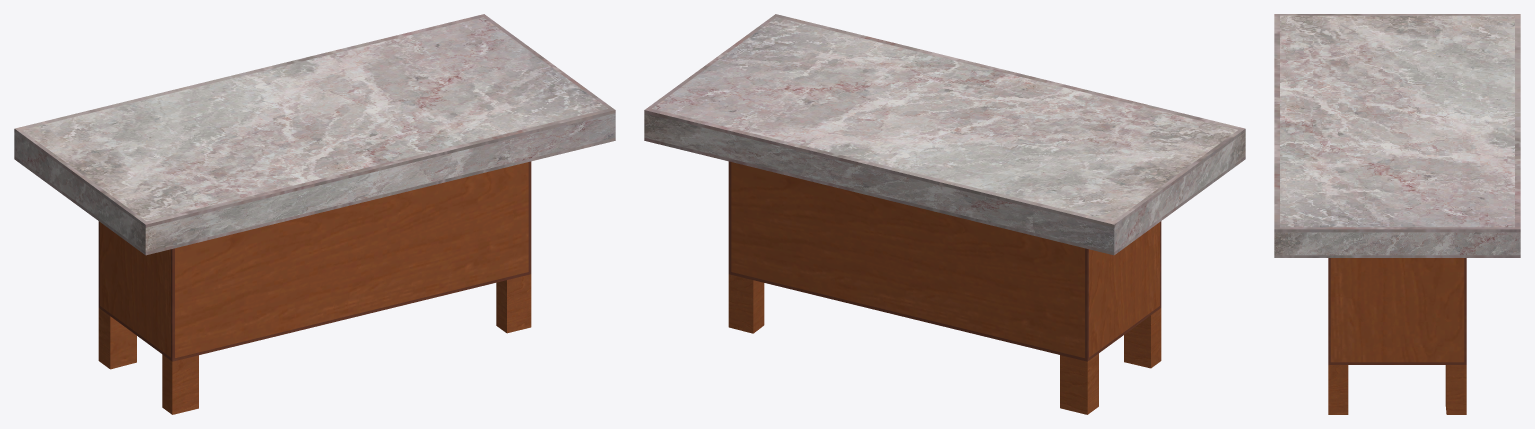
File: Table_Side_Kitchen.fbx
3 renders of one model, left to right at view 1: azimuth 30°, elevation 25°; view 2: azimuth 150°, elevation 25°; view 3: azimuth 270°, elevation 25°, orthographic. The views are drawn at different scales.
Visible parts, largest first — view 1: Kitchen_Counter; view 2: Kitchen_Counter; view 3: Kitchen_Counter.
Part boxes in pixels (x1,y1,x2,y2): Kitchen_Counter: (14, 14, 615, 414); Kitchen_Counter: (644, 14, 1245, 414); Kitchen_Counter: (1274, 14, 1520, 414).
Bounding box in the file's own units: 245 × 112 × 119.
